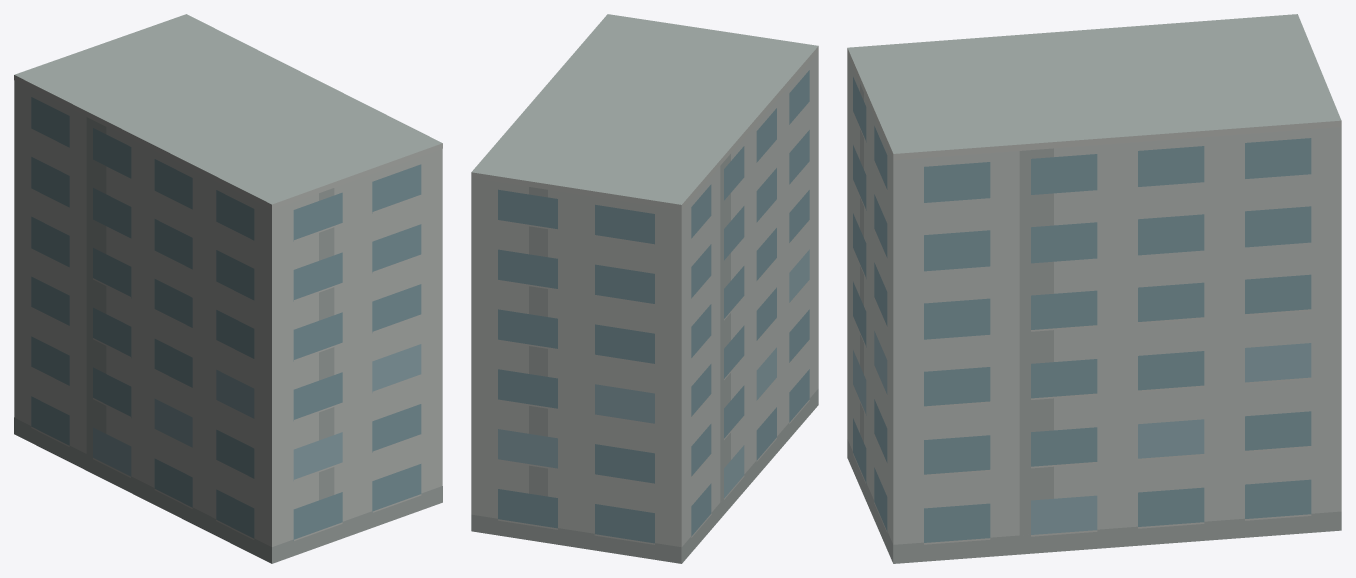
Rendered from survey-upis-32843668.glb.
3 views of the same model, side by side, from view 1: azimuth 30°, elevation 25°; view 2: azimuth 150°, elevation 25°; view 3: azimuth 270°, elevation 25° (orthographic). The views are drawn at different scales.
Parts seen in each view (by area): view 1: survey-upis-32843668.tmp; view 2: survey-upis-32843668.tmp; view 3: survey-upis-32843668.tmp.
Part boxes in pixels (x1,y1,x2,y2): survey-upis-32843668.tmp: (14, 14, 442, 563); survey-upis-32843668.tmp: (471, 14, 818, 563); survey-upis-32843668.tmp: (847, 14, 1341, 563).
Bounding box in the file's own units: 11.43 × 15.6 × 17.06.
